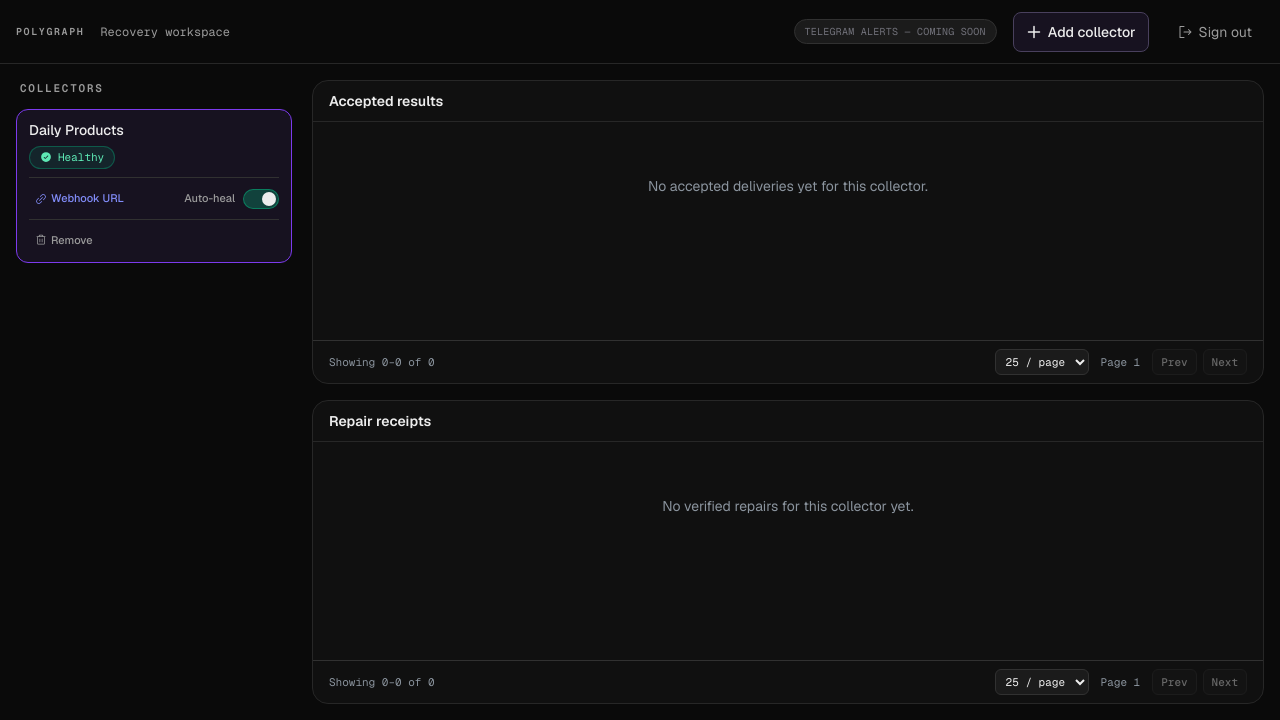
Test: RecoveryWorkspace — remove collector › surfaces the server's 409 verbatim and keeps the collector in the rail
Step 1. Click the button with aria-label "Remove Daily Products" → x=64, y=240, box [29,228,98,252]
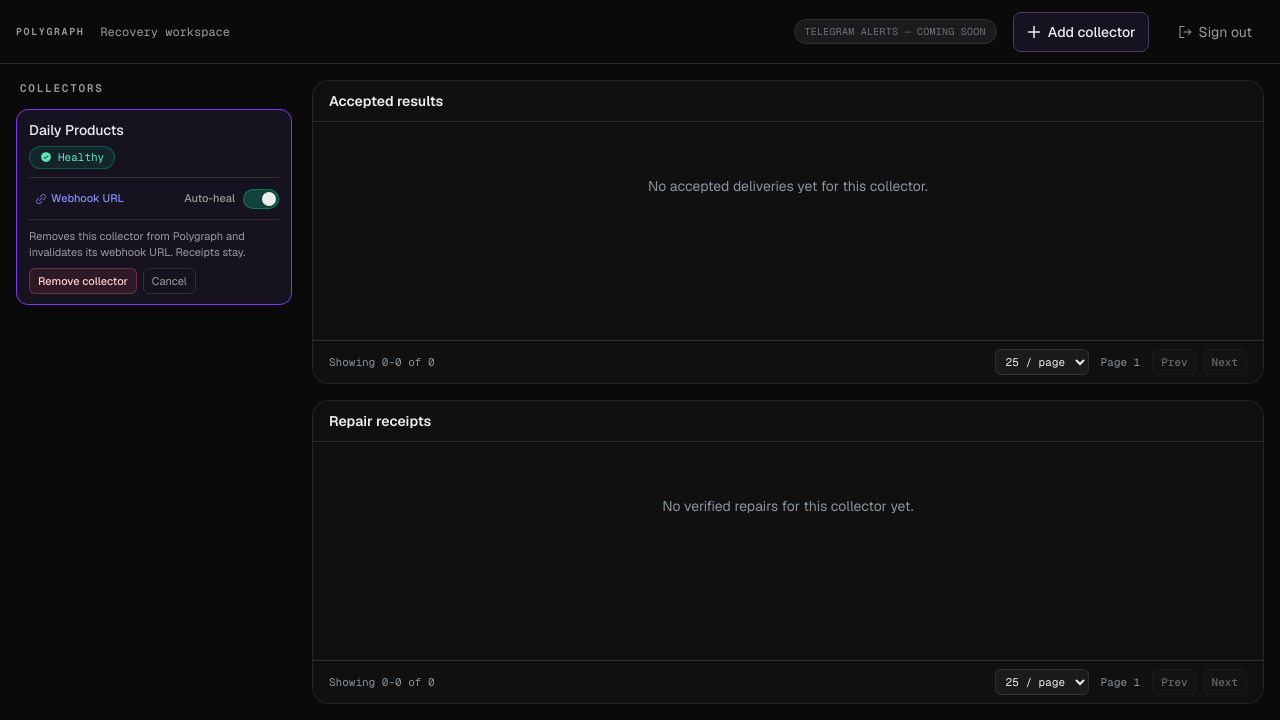
Step 2. Click the button "Remove collector" → x=83, y=281, box [29,268,137,294]
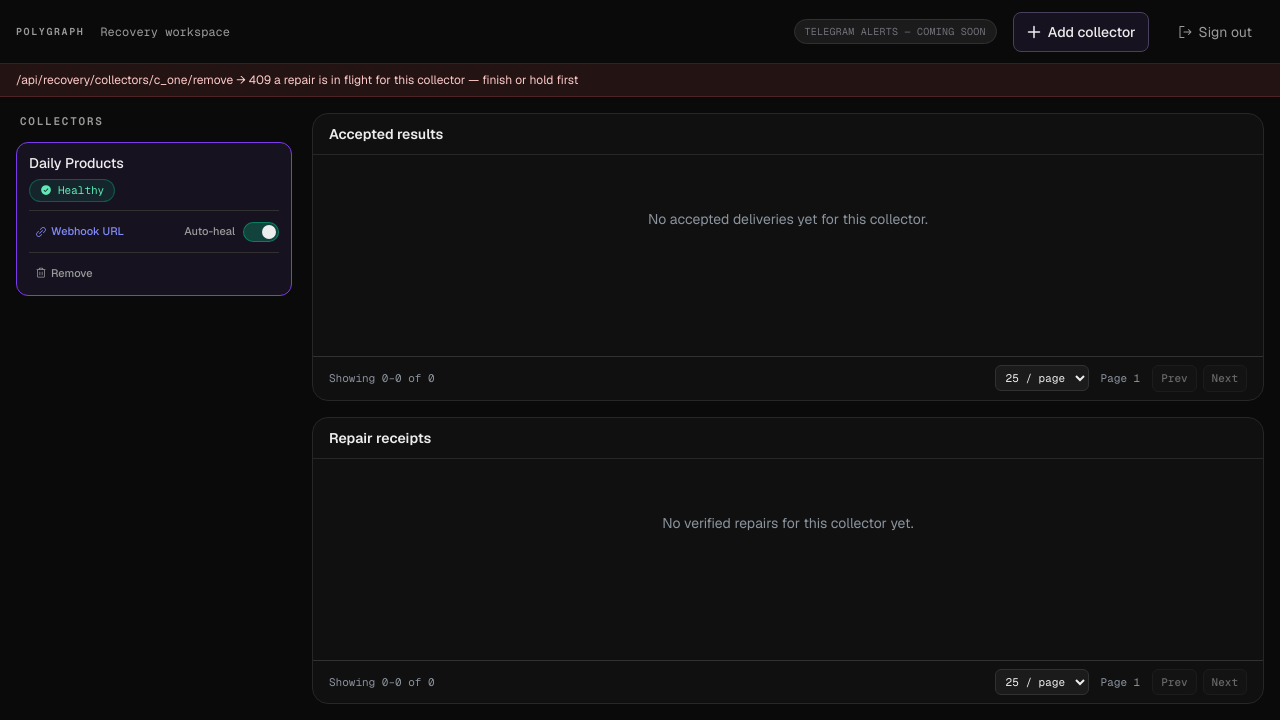
Expected: the text "Daily Products" is shown, [29,154,124,172]
Now the text "finish or hold first" is shown, box [16,72,578,88]
